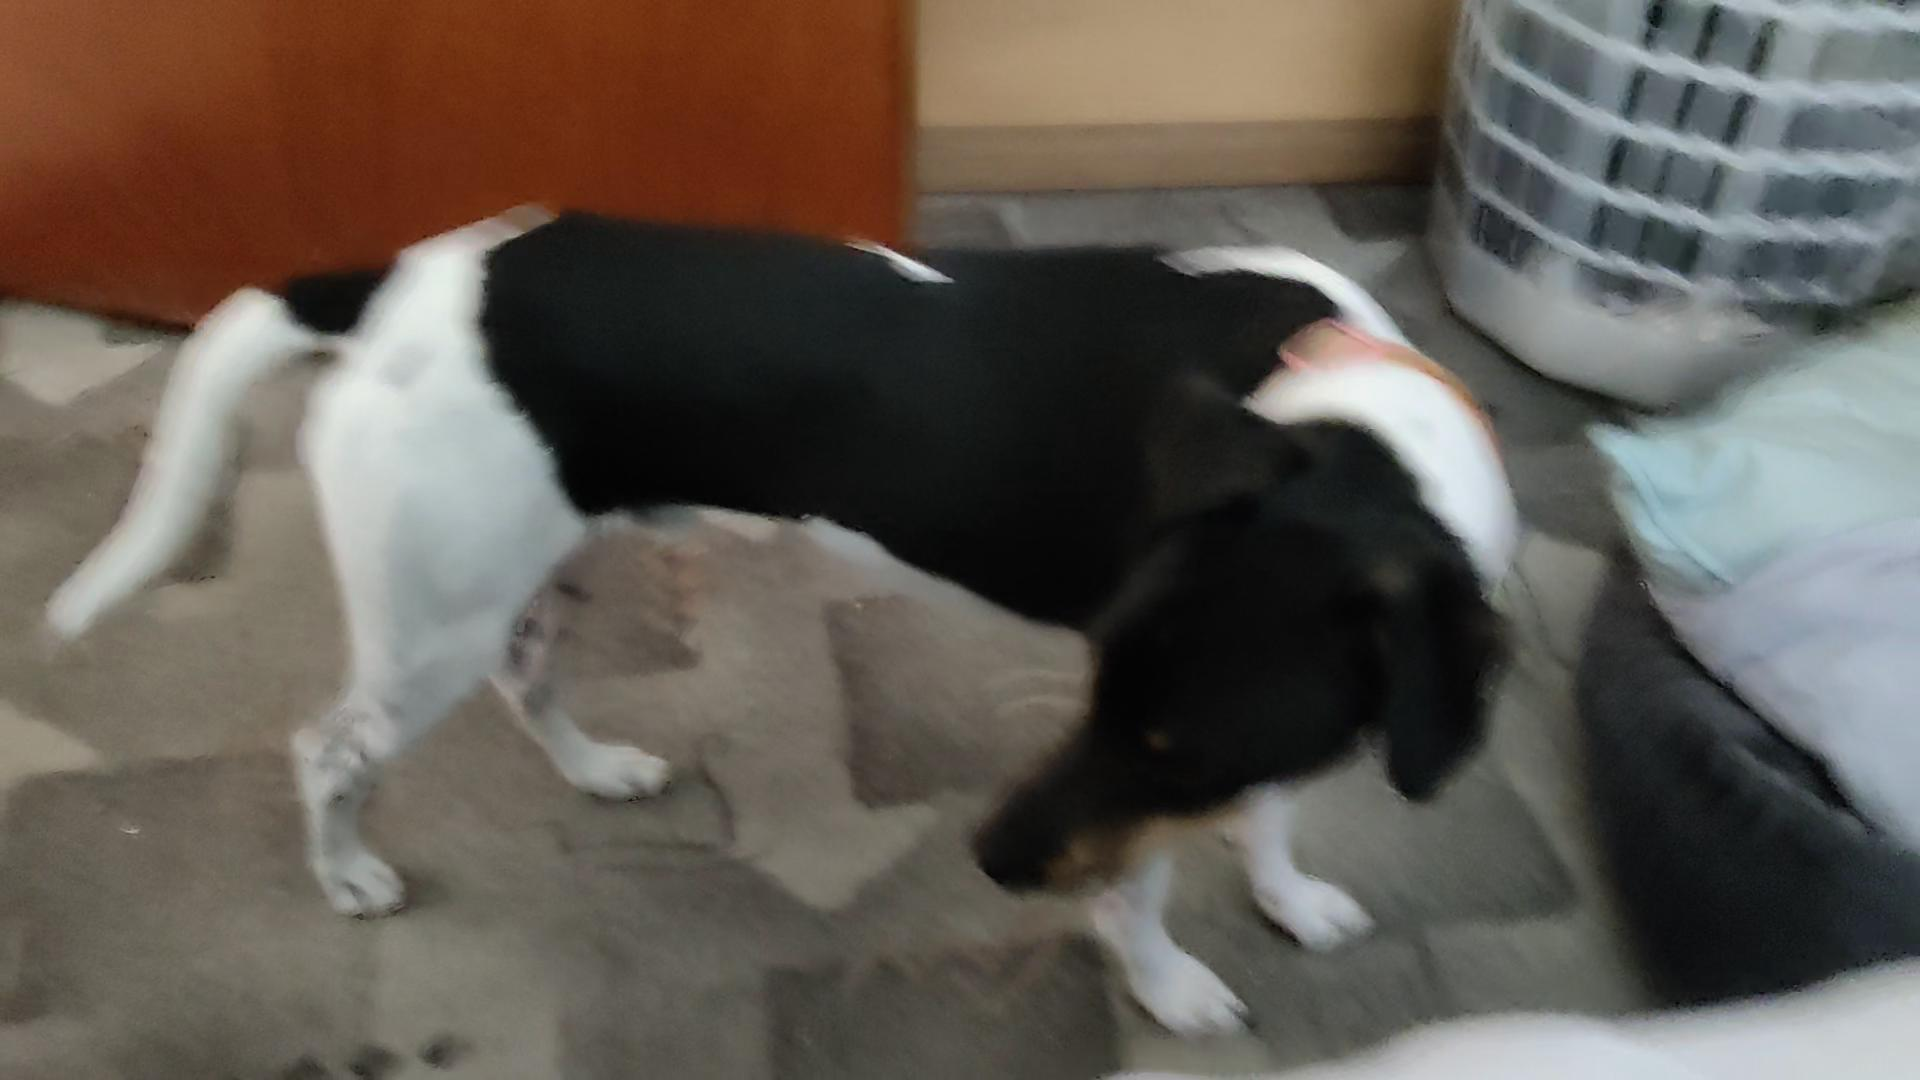Dog: (41, 193, 1528, 1042)
